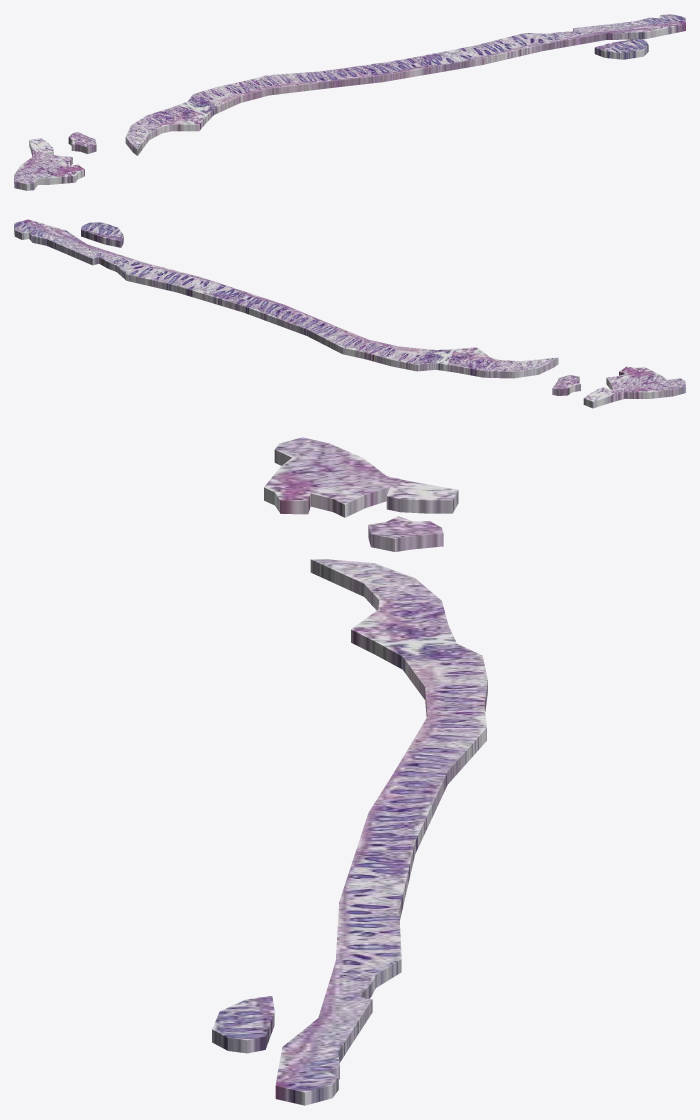
The picture shows the model from 3 angles, top to bottom: view 1: azimuth 30°, elevation 25°; view 2: azimuth 150°, elevation 25°; view 3: azimuth 270°, elevation 25°; orthographic projection. The views are drawn at different scales.
Parts seen in each view (by area): view 1: 平面; view 2: 平面; view 3: 平面.
Part boxes in pixels (x1=…): 平面: x1=14, y1=14, x2=685, y2=190; 平面: x1=14, y1=219, x2=685, y2=408; 平面: x1=212, y1=437, x2=487, y2=1105.
Size of the model in its own units: 18.3 by 0.1718 by 3.25.
1 material, 1 textured.
